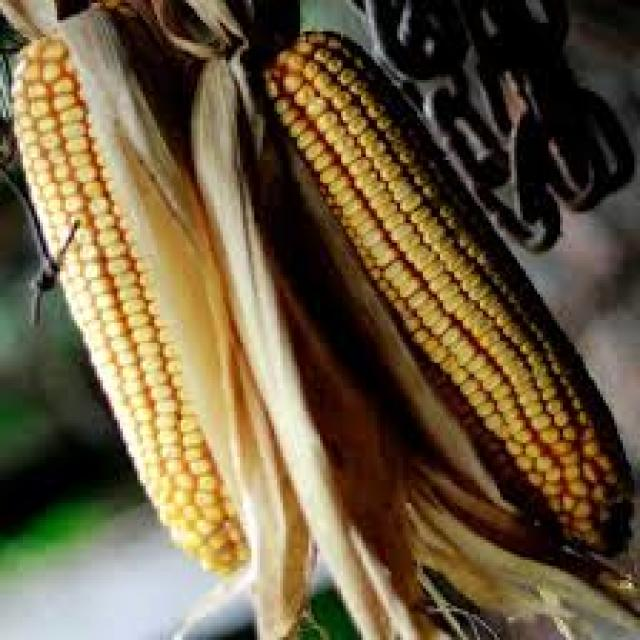purecorn: (262, 24, 640, 611), (0, 9, 280, 581)
